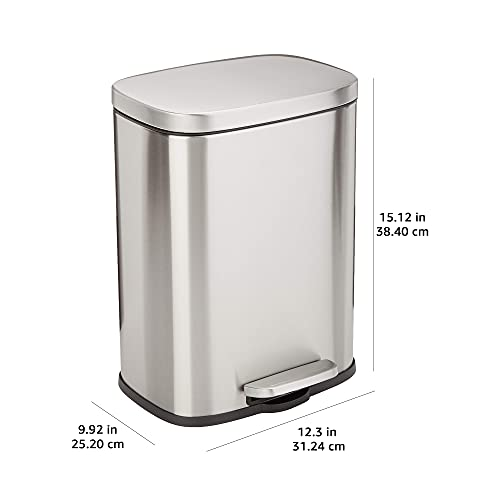25.20: (72, 439, 104, 449)
om: (108, 441, 124, 449)
